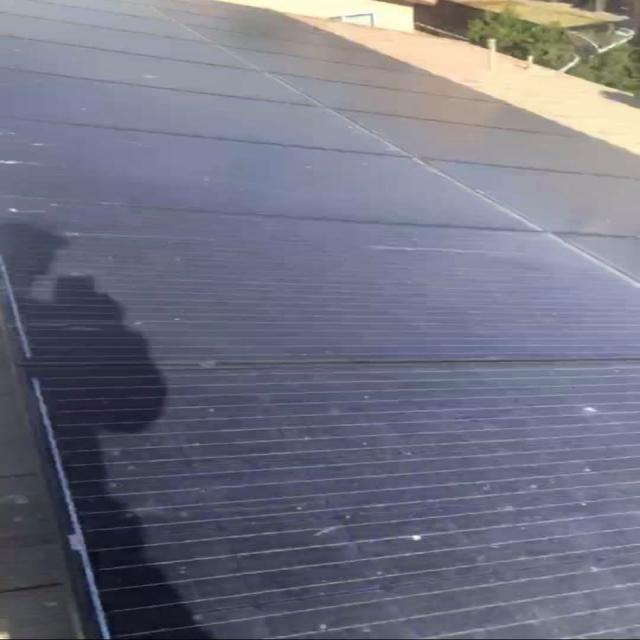dust-solar-panel: (0, 0, 638, 640)
